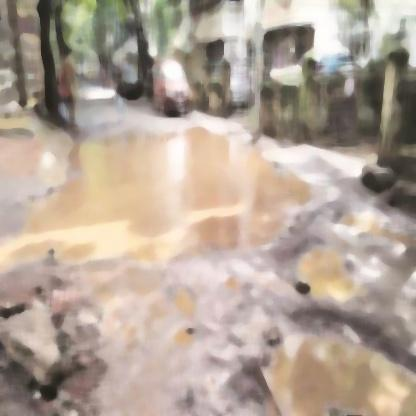Potholes: (6, 126, 306, 244), (268, 304, 416, 416)
